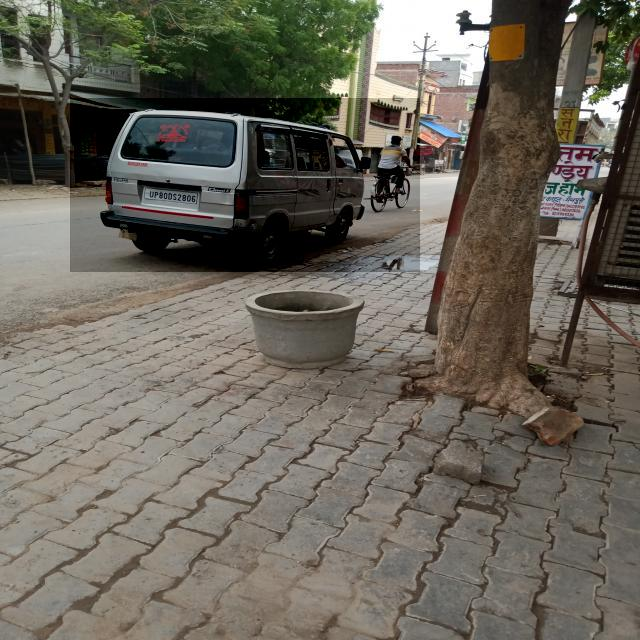Travller: (70, 98, 420, 272)
